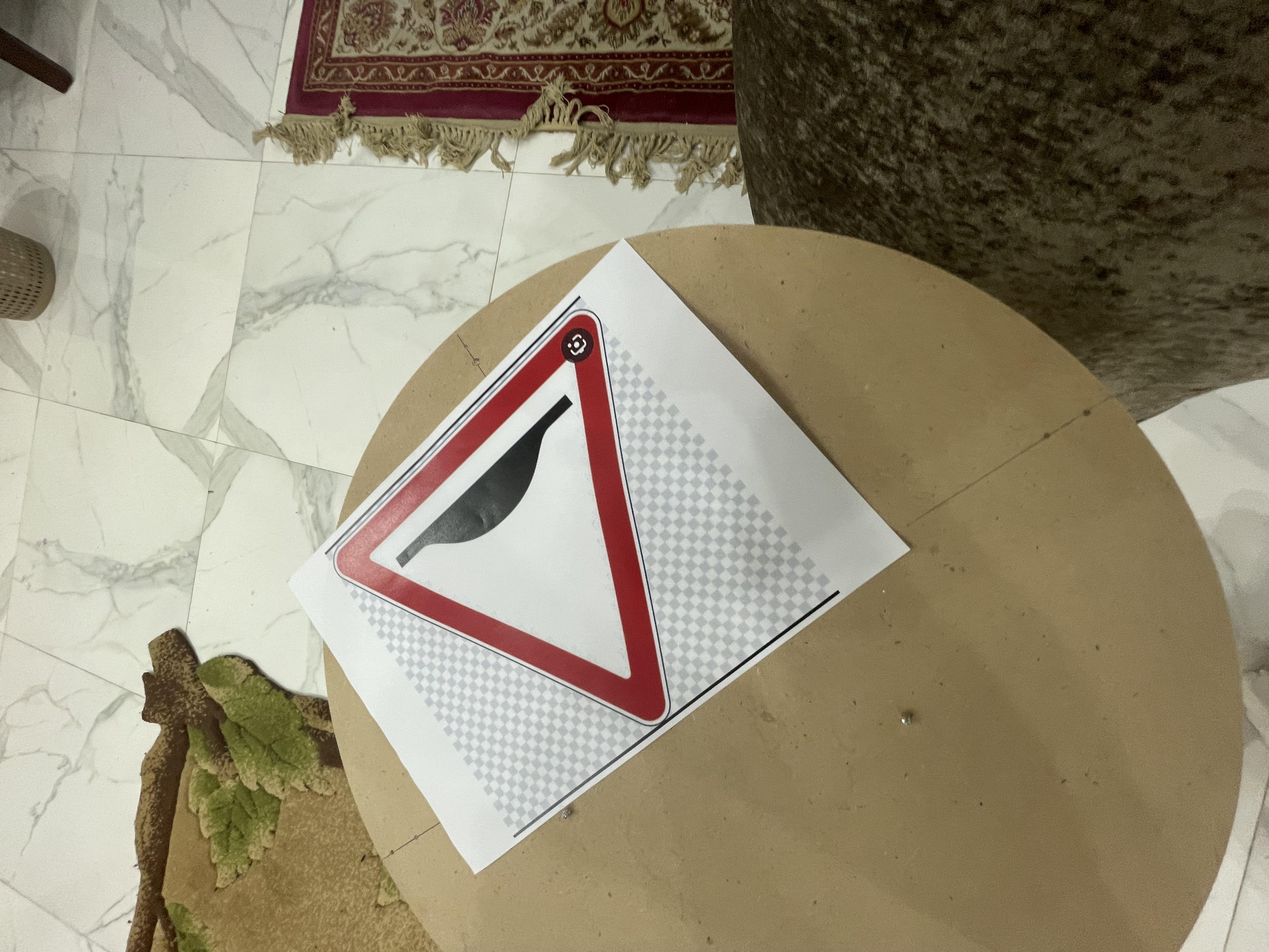Hump: (328, 303, 677, 721)
